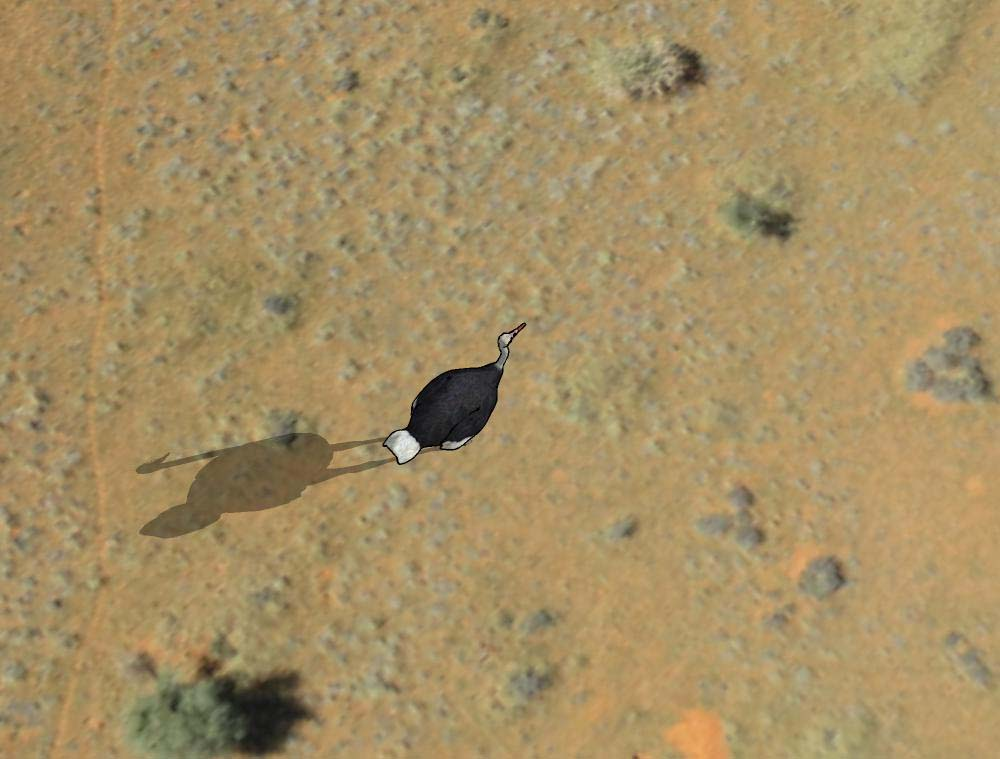ostrich: (381, 322, 535, 469)
